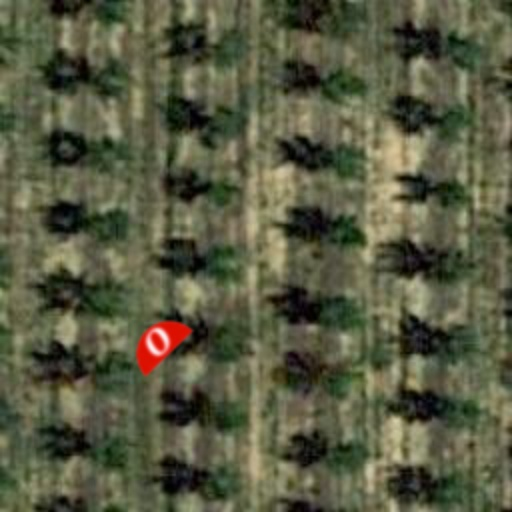semicircle: (110, 294, 206, 390)
